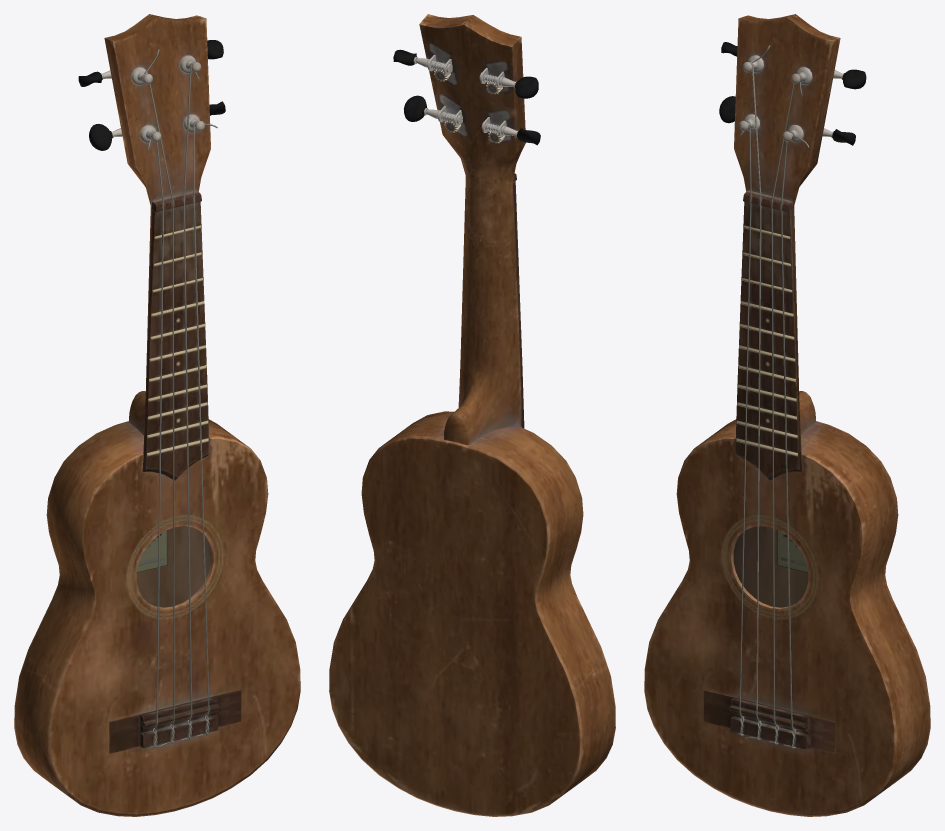
Rendered from Ukulele_01.7044329f.glb.
3 views of the same model, side by side, from view 1: azimuth 30°, elevation 25°; view 2: azimuth 150°, elevation 25°; view 3: azimuth 330°, elevation 25° (orthographic).
Visible parts, largest first — view 1: Ukulele_01; view 2: Ukulele_01; view 3: Ukulele_01.
Boxes of the visible parts, bbox=[...] form: Ukulele_01: bbox=[14, 14, 300, 816]; Ukulele_01: bbox=[329, 14, 615, 816]; Ukulele_01: bbox=[644, 14, 930, 816].
Size of the model in its own units: 0.3376 by 1 by 0.0963.
1 material, 1 textured.
